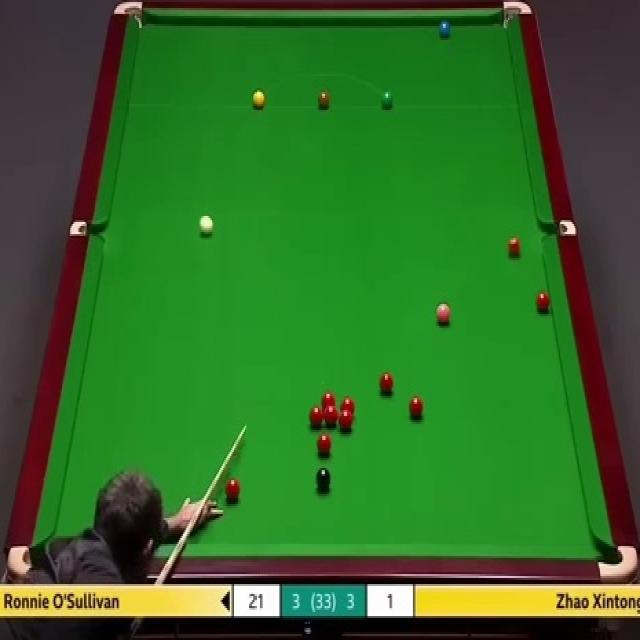pocket: (598, 544, 638, 583), (7, 540, 38, 580), (502, 2, 533, 32), (112, 1, 144, 30), (70, 221, 104, 240), (542, 222, 576, 240)
